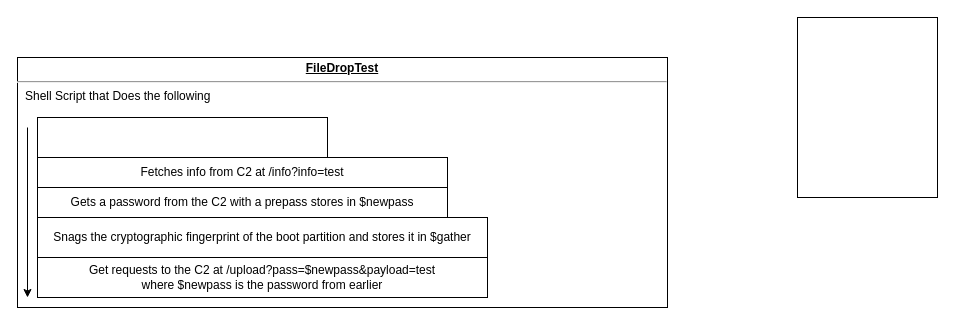
The diagram is 955 pixels wide and 325 high, and some of its shapes have lost their labels. The shapes that lost their labels are listed below. From the top down, each one's centre as x and y in pixels, then its label:
At pixel 867 107: "Title".
At pixel 182 137: "Set universal rwx permisions on ./busybox".
